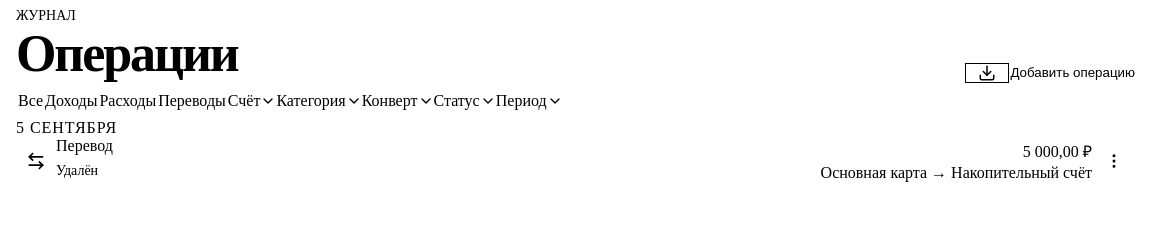
Test case: operations page (v2 journal) › offers only restore for a deleted transfer
This screenshot has width=1153, height=244.
What coordinates should you click on to do the following:
click the button with test id "action-menu-trigger"
I would click on:
 (1114, 161)
Its box is [1092,139,1136,183].
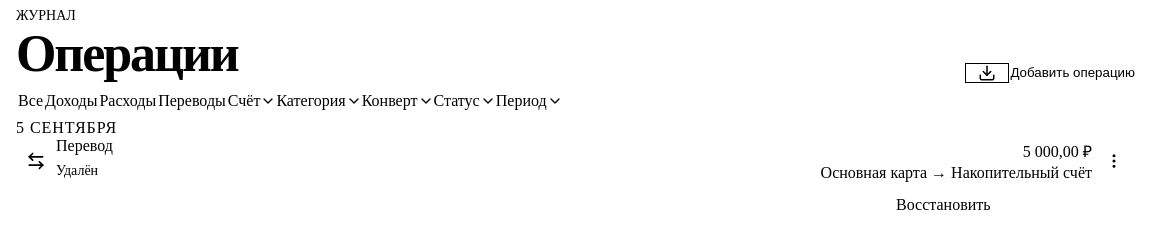
expect the menu item with test id "transfer-row-restore" is shown: met, box [896,183,1136,227]
